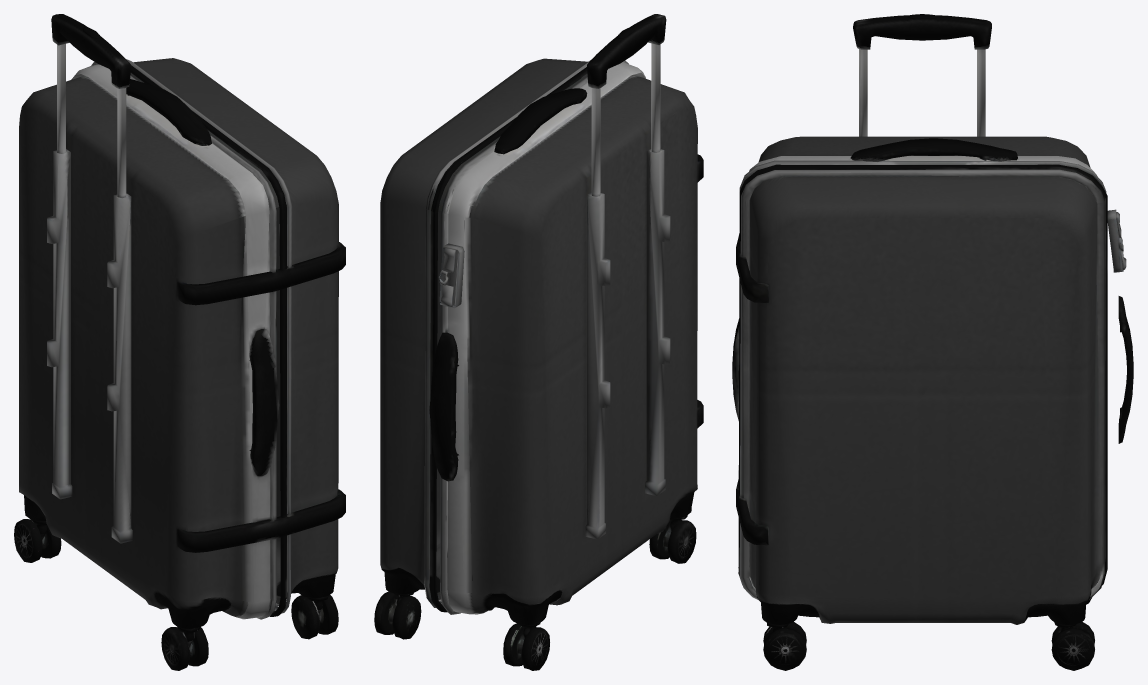
File: travel_suitcase.glb
The picture shows the model from 3 angles, left to right: view 1: azimuth 30°, elevation 25°; view 2: azimuth 150°, elevation 25°; view 3: azimuth 270°, elevation 25°; orthographic projection. The views are drawn at different scales.
Parts seen in each view (by area): view 1: tripo_node_d39eaceb-38da-46dd-b2fb-814c7ebecd5b; view 2: tripo_node_d39eaceb-38da-46dd-b2fb-814c7ebecd5b; view 3: tripo_node_d39eaceb-38da-46dd-b2fb-814c7ebecd5b.
Part boxes in pixels (bbox=[...]): tripo_node_d39eaceb-38da-46dd-b2fb-814c7ebecd5b: bbox=[14, 14, 345, 670]; tripo_node_d39eaceb-38da-46dd-b2fb-814c7ebecd5b: bbox=[374, 14, 703, 670]; tripo_node_d39eaceb-38da-46dd-b2fb-814c7ebecd5b: bbox=[732, 14, 1133, 670].
Bounding box in the file's own units: 0.3262 × 0.998 × 0.6309.
Materials: 1 (1 with a texture image).
